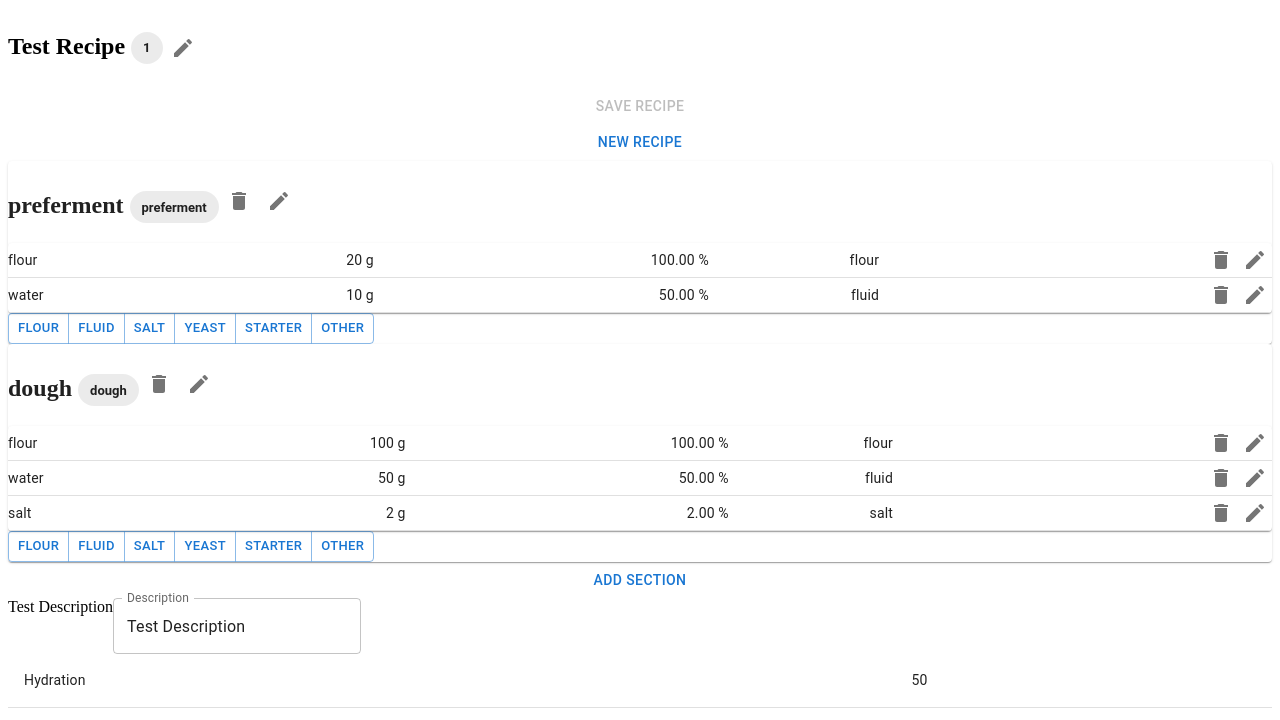
Test case: Calc › updating quantity › prevents scaling and setting the quantity to a value < 1
Click the button named "edit recipe header".
click(183, 48)  # box [163,28,203,68]
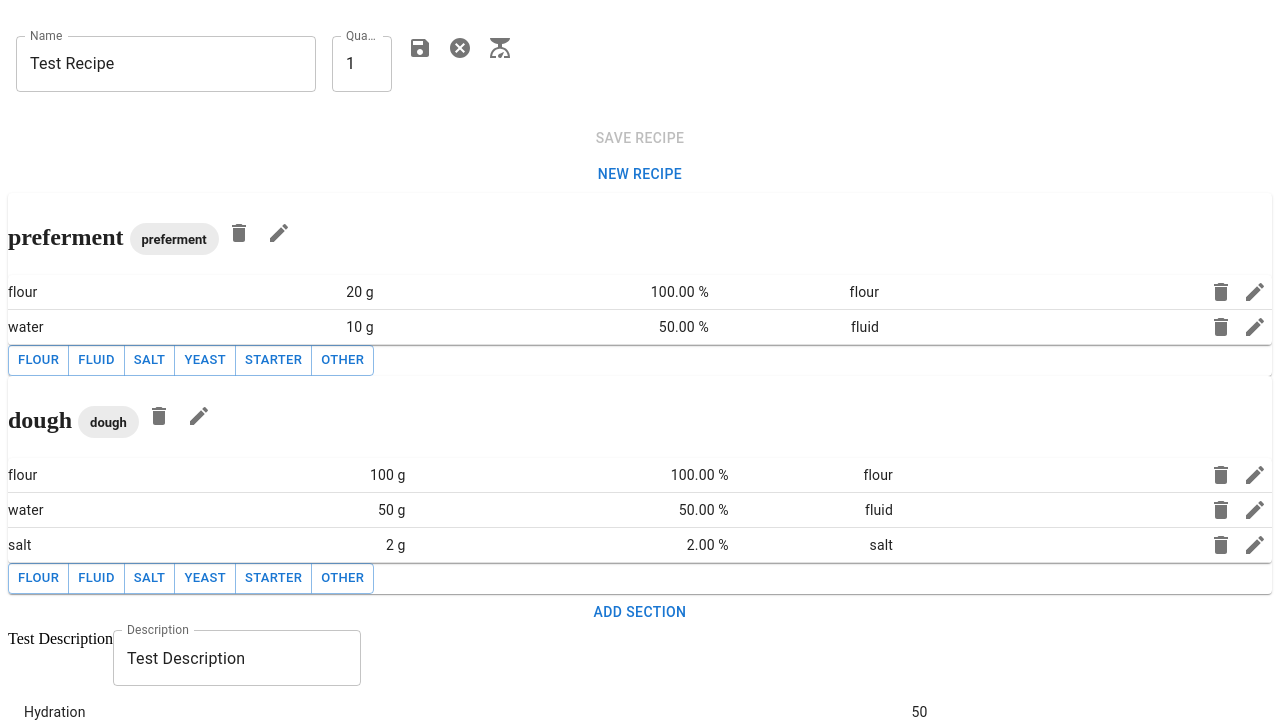
Replace the text in the number field labelled "Quantity" with "0" at (362, 64), box [332,36,392,92]
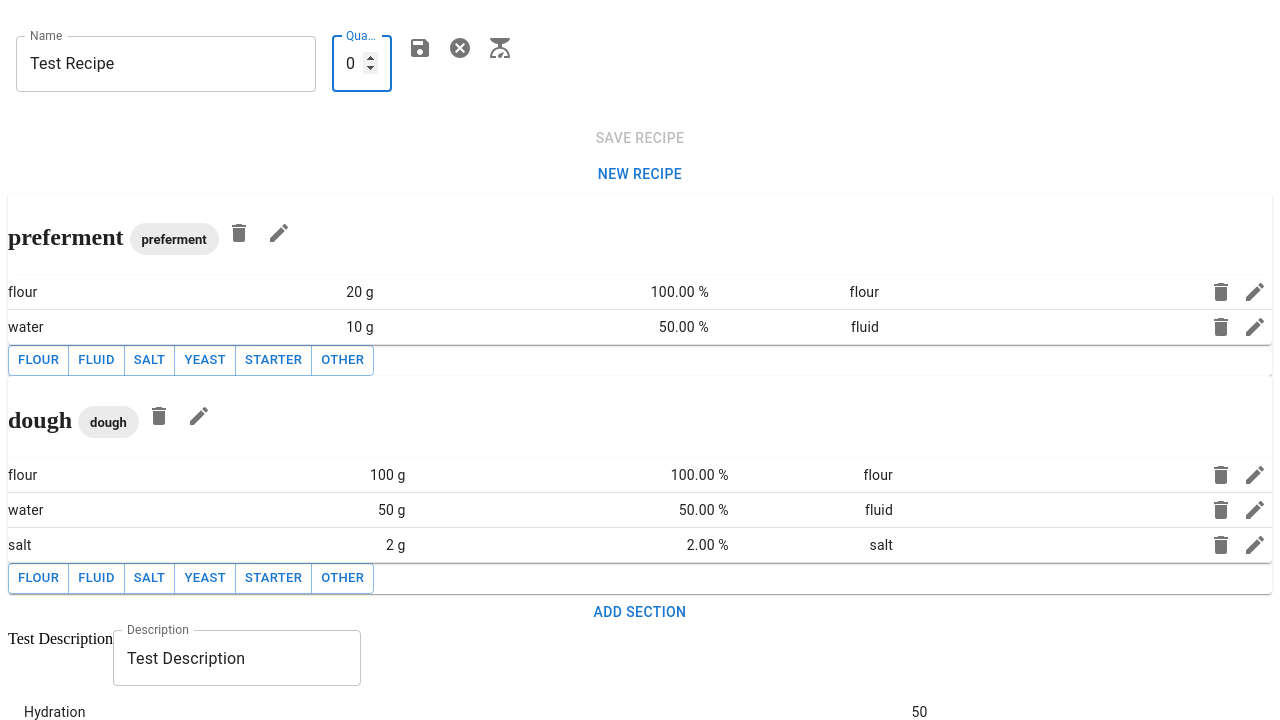
Click the button named "scale recipe".
click(500, 48)  # box [480,28,520,68]
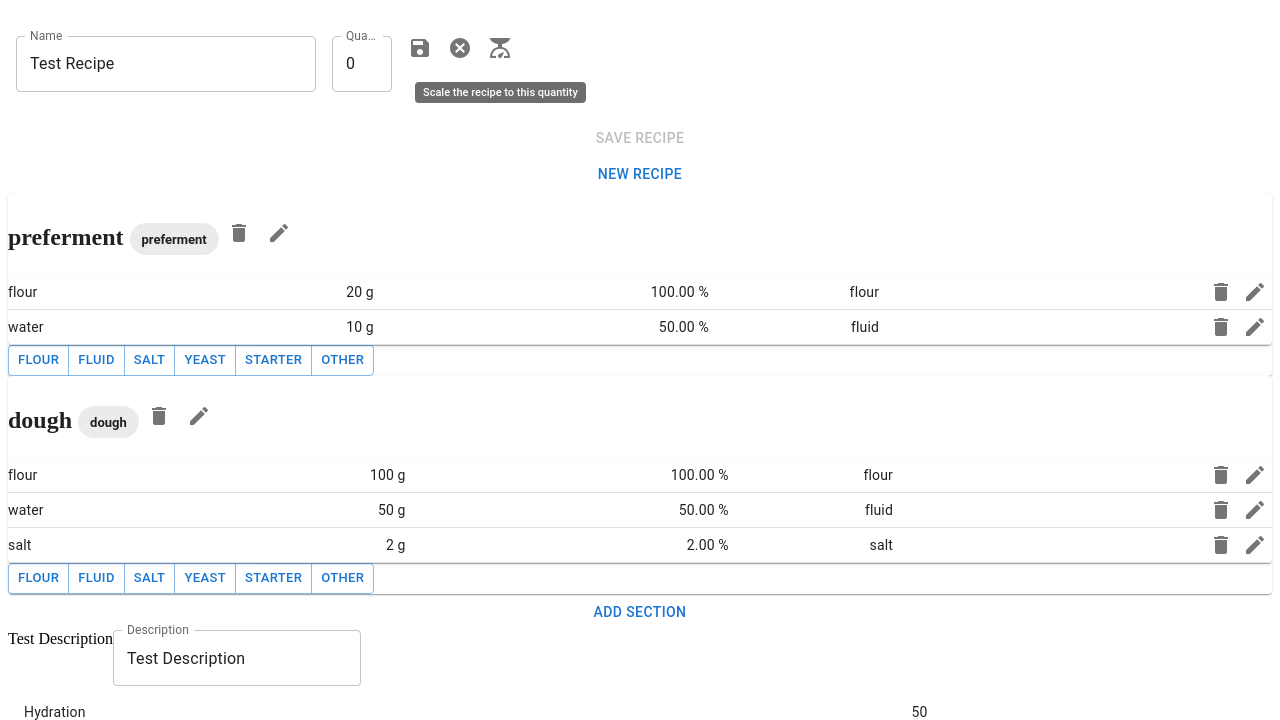
Click the button named "confirm edit".
click(420, 48)  # box [400,28,440,68]
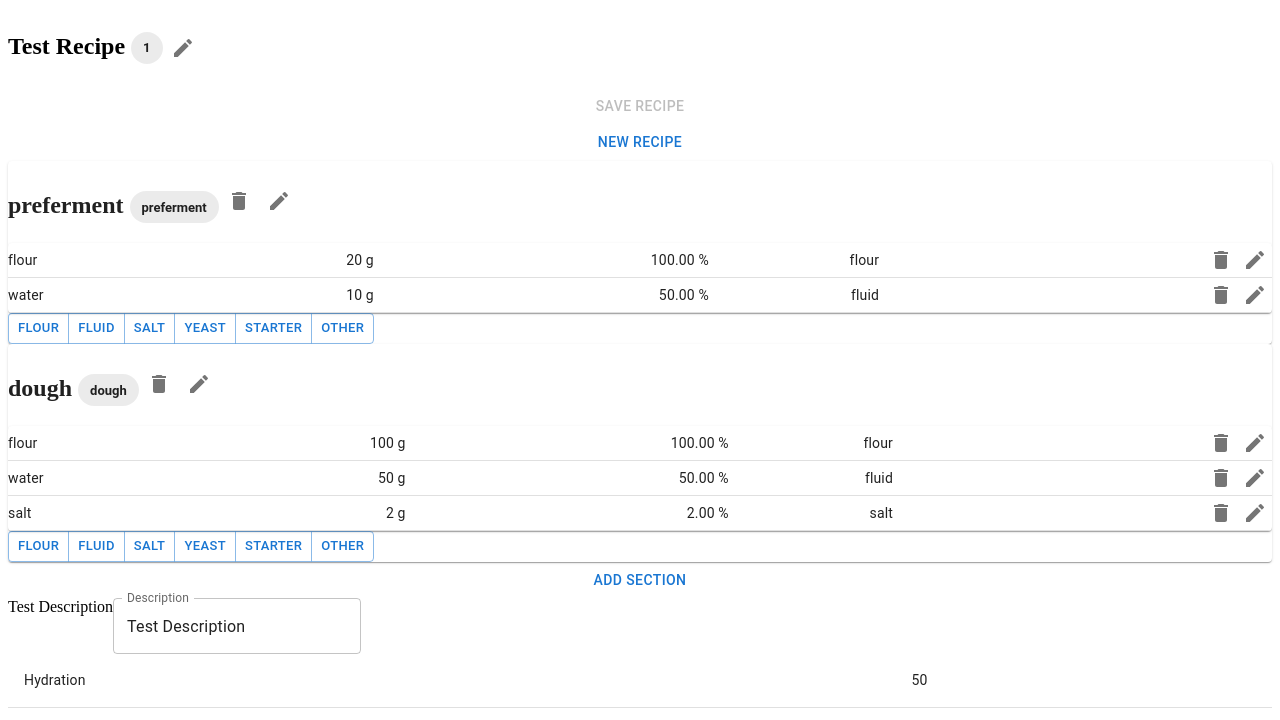
Expected: the element with test id "recipe-quantity" reads "1", [143,40,151,55]
Click the button named "edit recipe header".
click(183, 48)  # box [163,28,203,68]
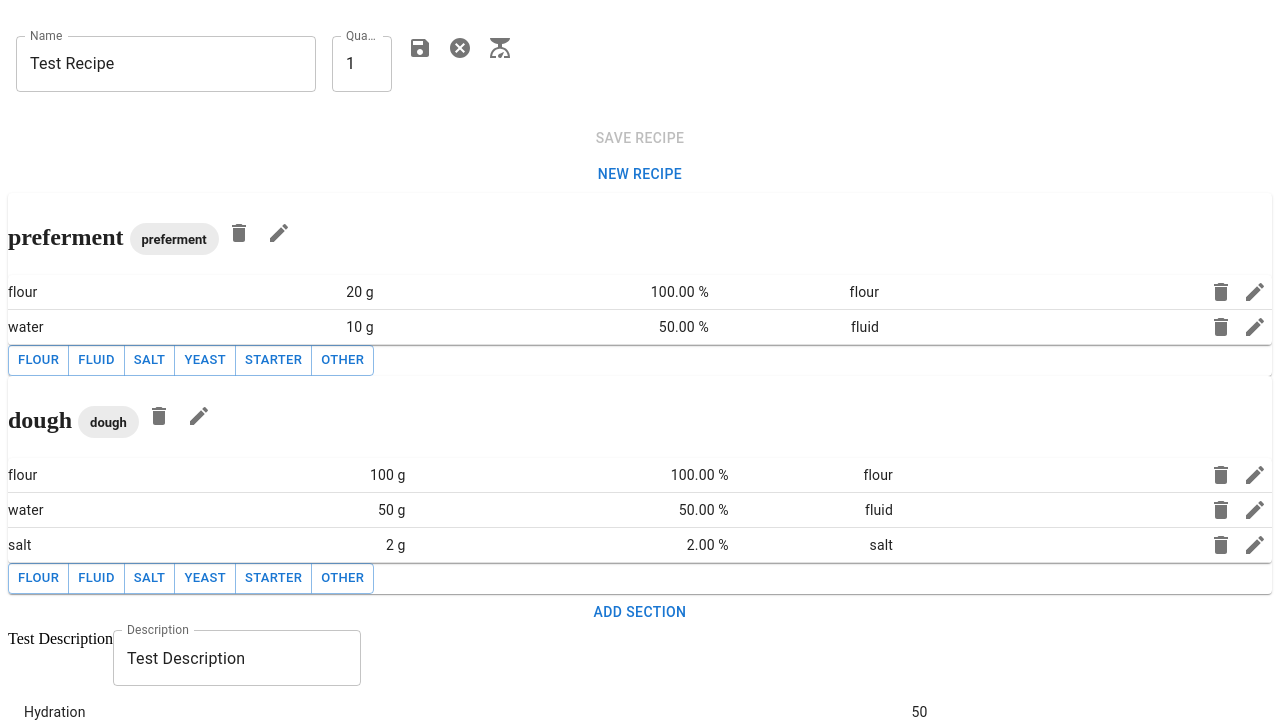
Expected: the number field labelled "Quantity" holds "1", [332,36,392,92]
